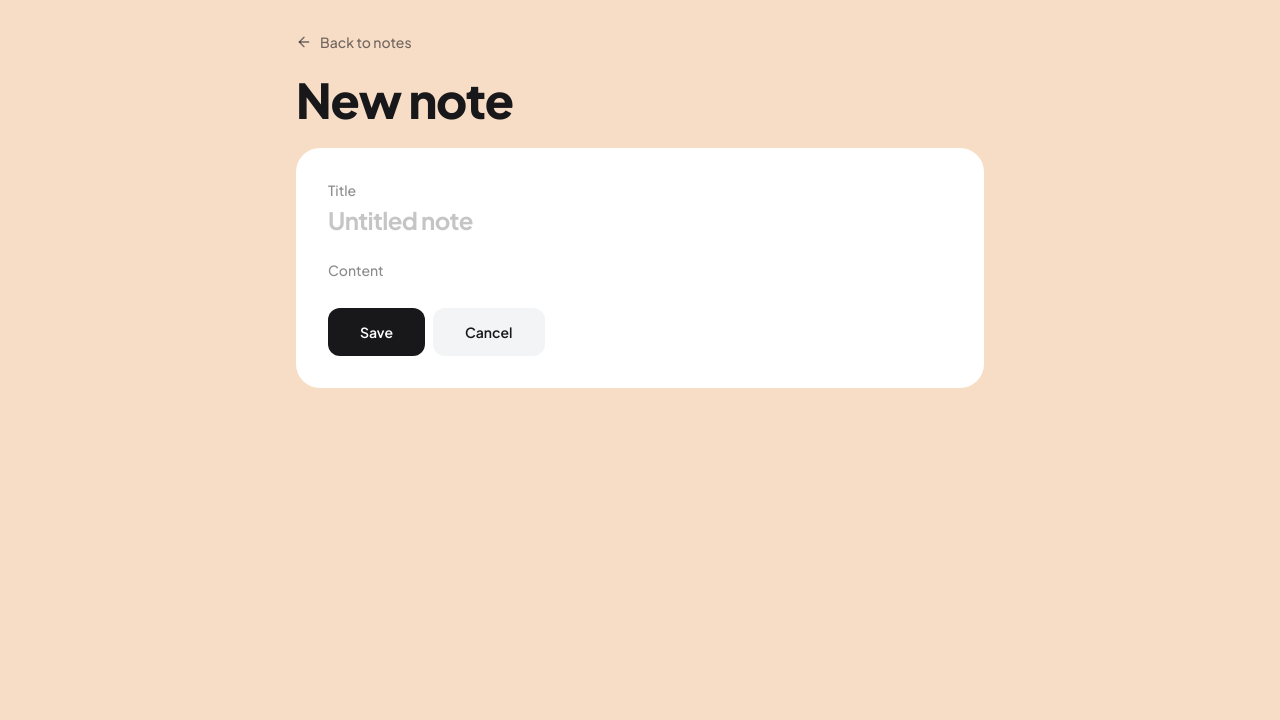
Test: cancelling the discard keeps what was typed
Type "Half written" into the field labelled "Title".
click(640, 220); type("Half written")  # box [328,204,952,236]
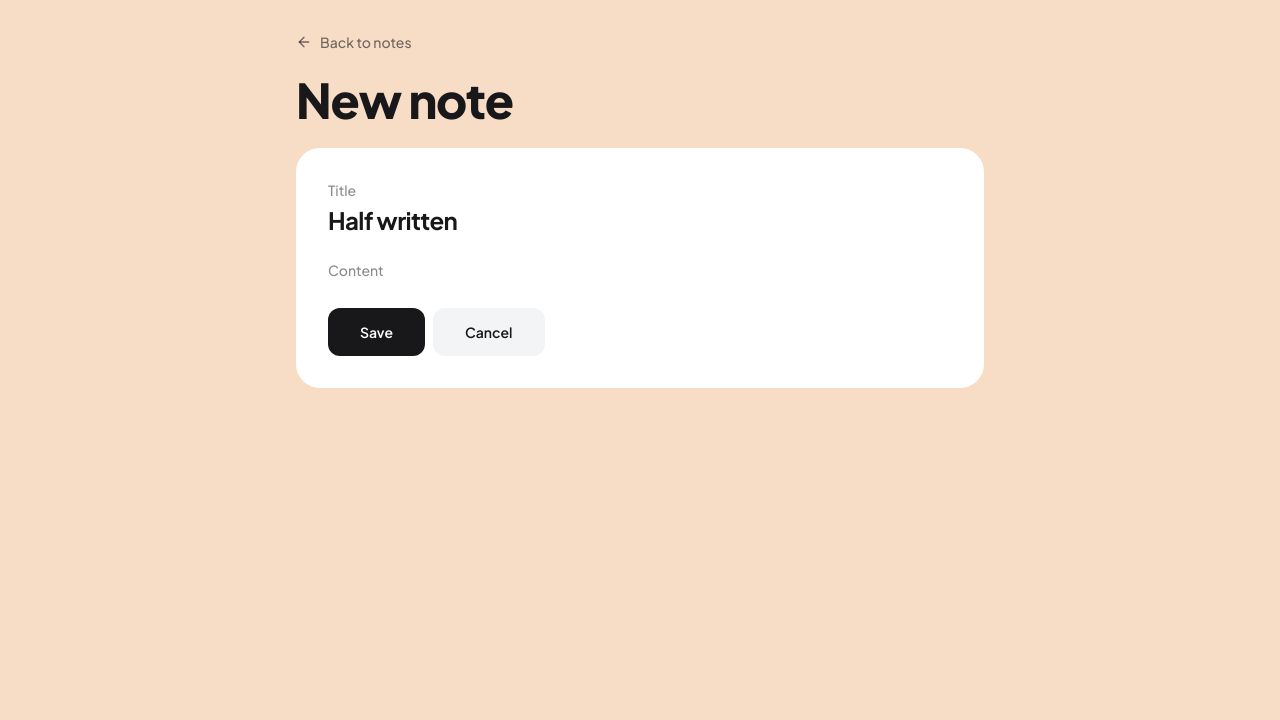
Click the button "Back to notes".
click(354, 42)  # box [296,32,412,52]
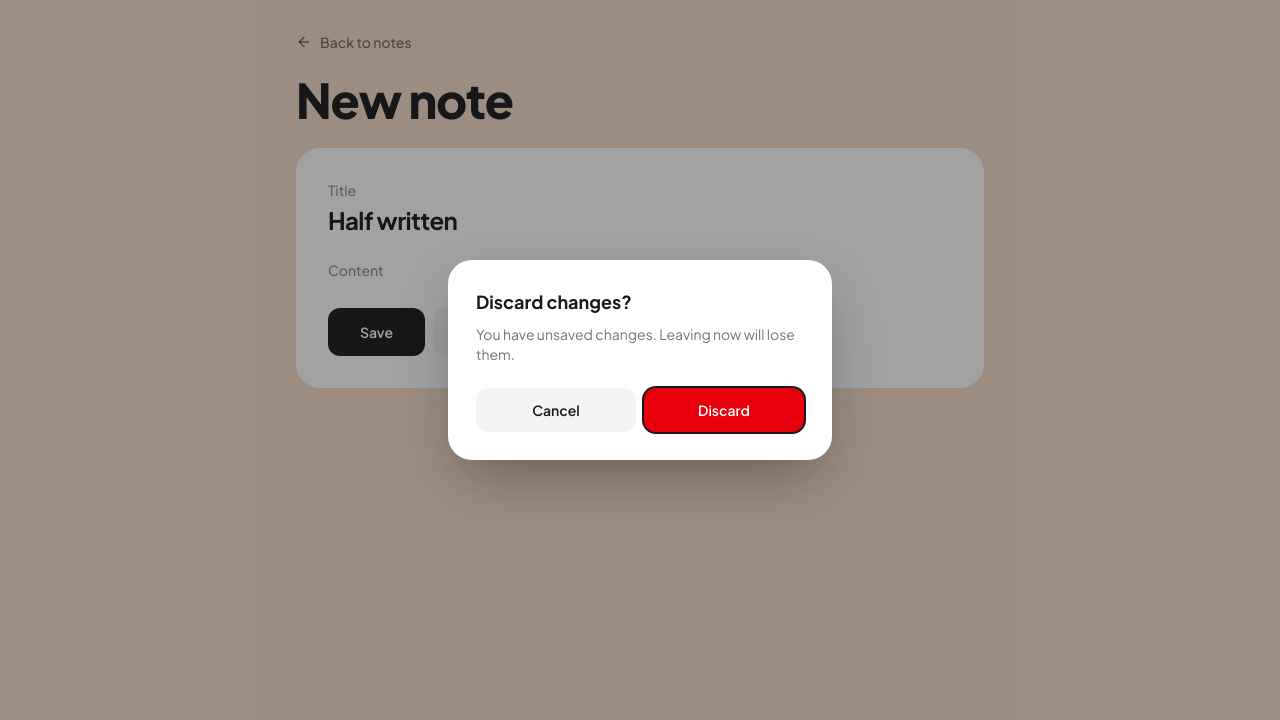
Click the button "Cancel".
click(556, 410)  # box [476,388,636,432]
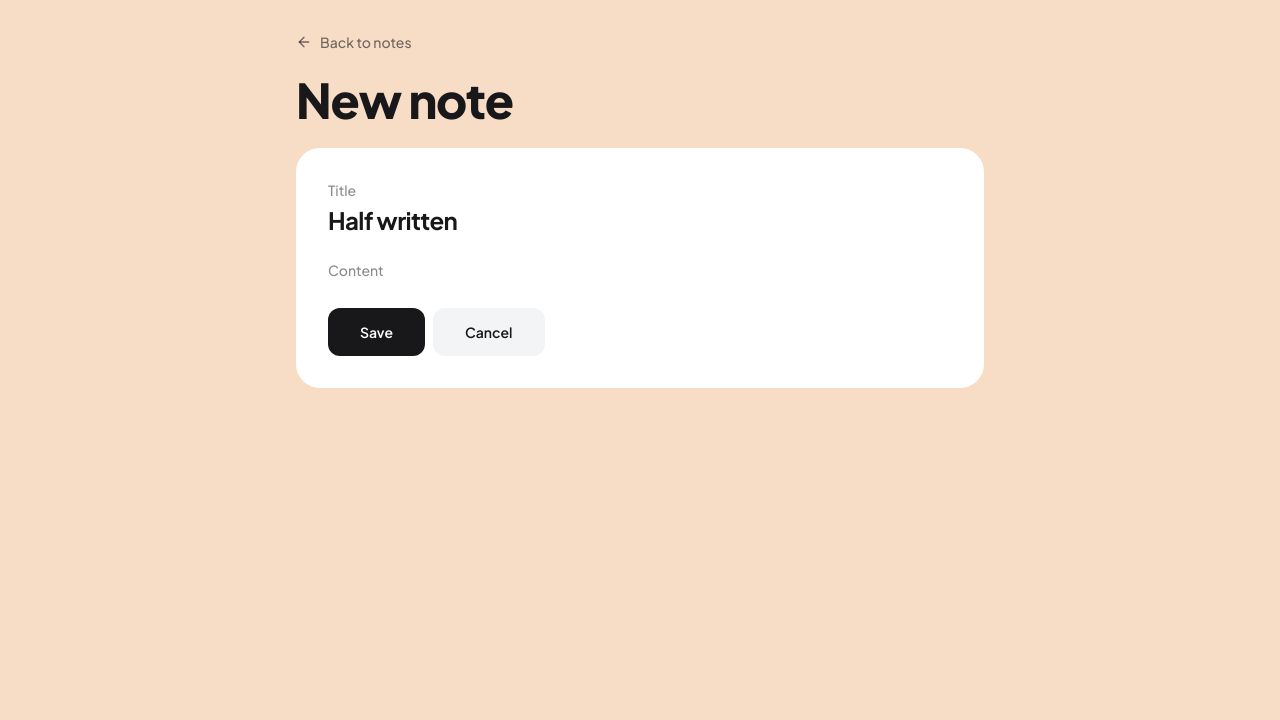
Check: the heading "Discard changes?" is gone
